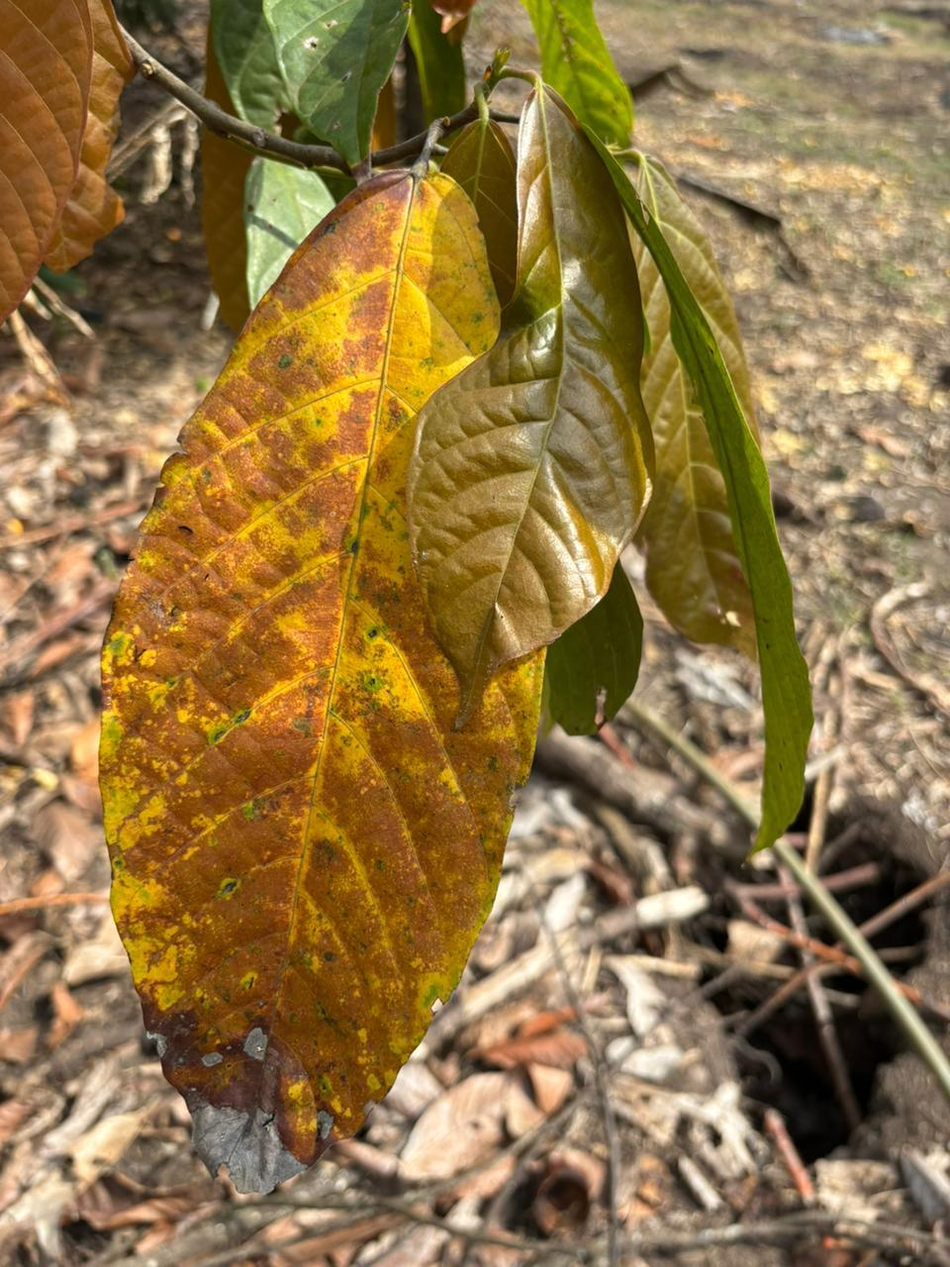deficienciia_fosforo: (100, 174, 539, 1191)
